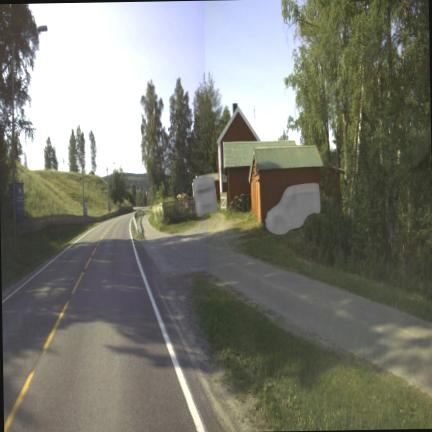Road: (2, 214, 220, 431)
